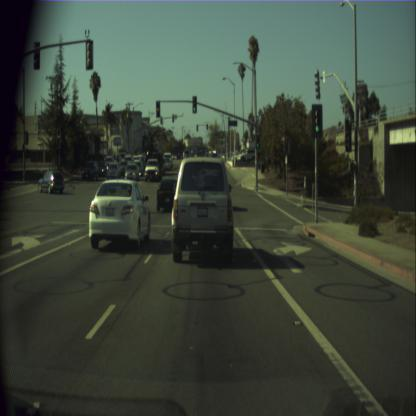Green: (312, 104, 322, 137), (192, 95, 197, 113), (255, 134, 260, 148)
Yellow: (156, 101, 160, 116), (57, 130, 59, 144)
